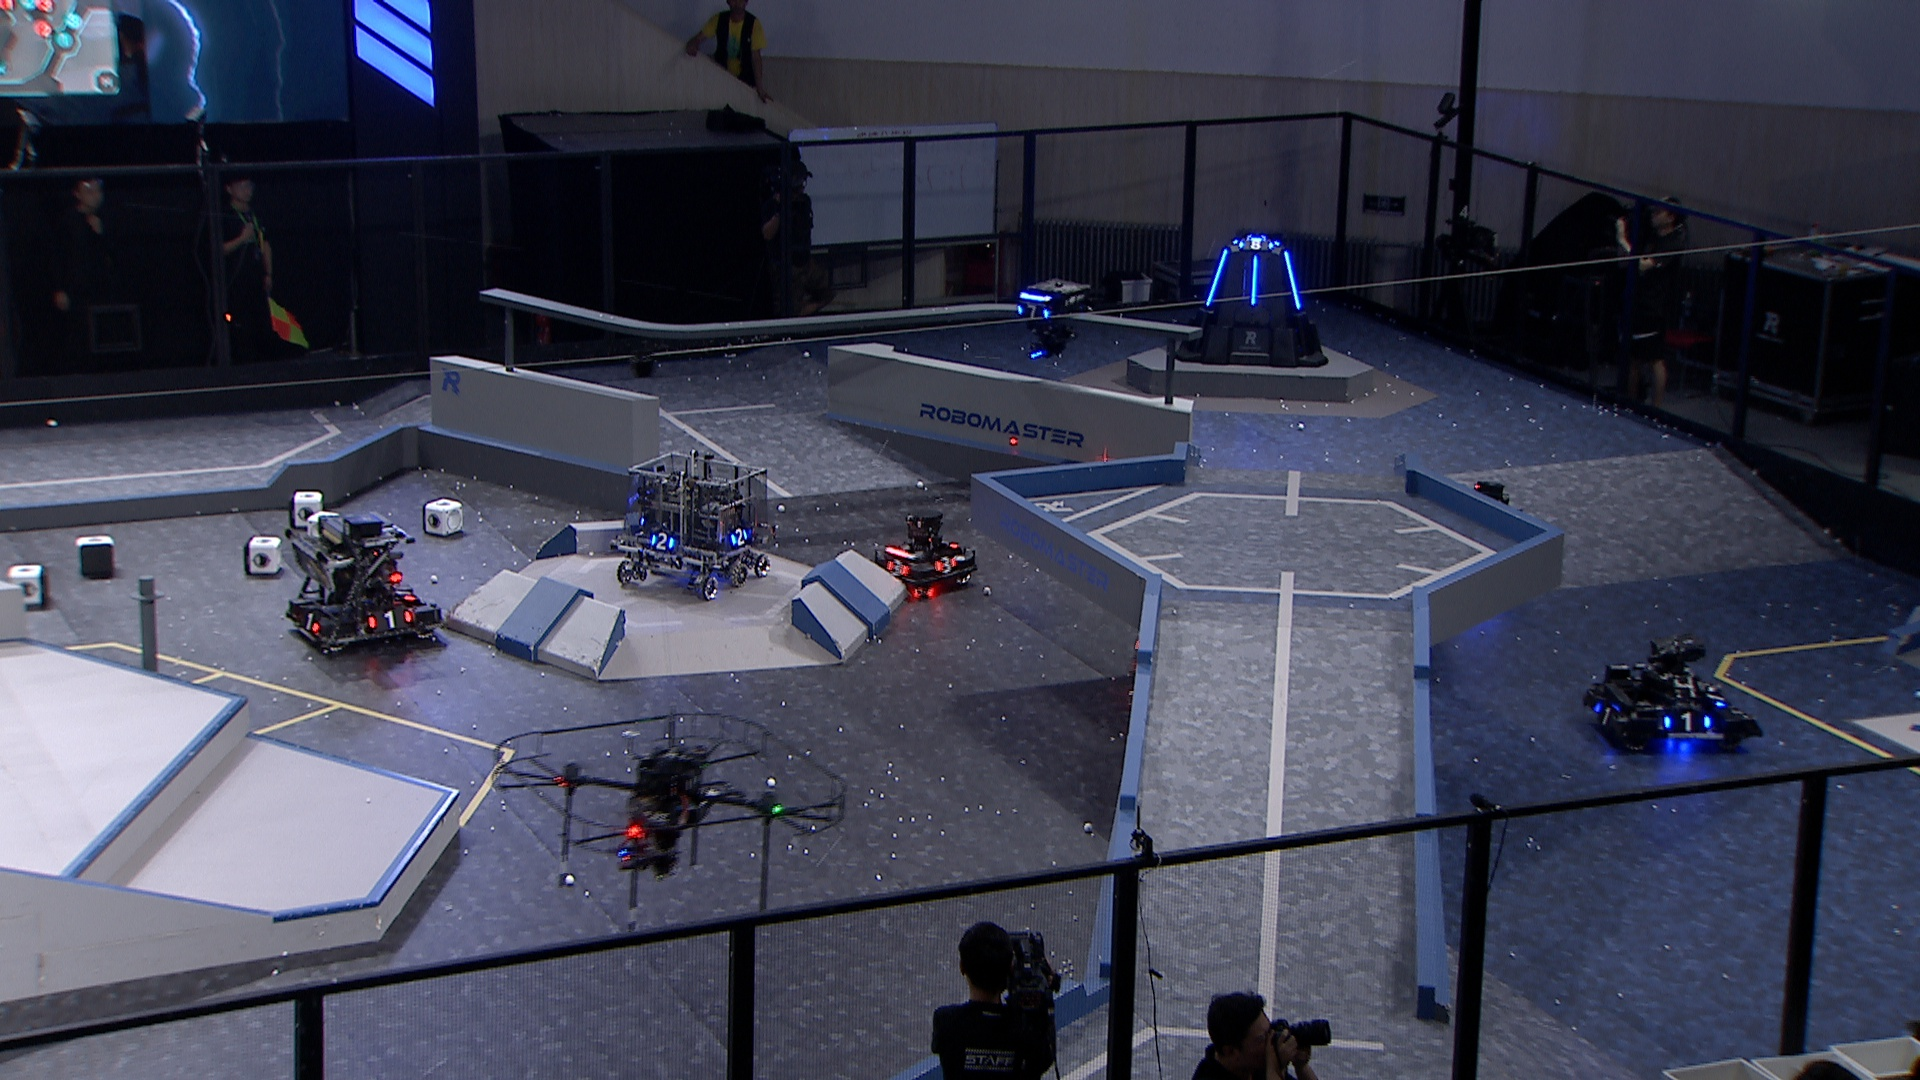armor: (1204, 248, 1233, 309), (1280, 249, 1305, 313), (1660, 712, 1714, 733), (363, 609, 413, 632), (723, 526, 756, 549), (1590, 702, 1618, 728), (646, 531, 676, 553), (1017, 305, 1054, 322), (1250, 255, 1262, 305), (297, 609, 320, 633), (1704, 688, 1727, 712), (1237, 237, 1276, 251), (884, 559, 911, 578), (930, 555, 957, 572), (392, 584, 417, 600)
base: (1167, 229, 1329, 368)
car: (608, 450, 779, 603), (281, 510, 444, 654), (1582, 629, 1762, 760), (873, 505, 978, 597)
watcher: (1015, 276, 1095, 363)
